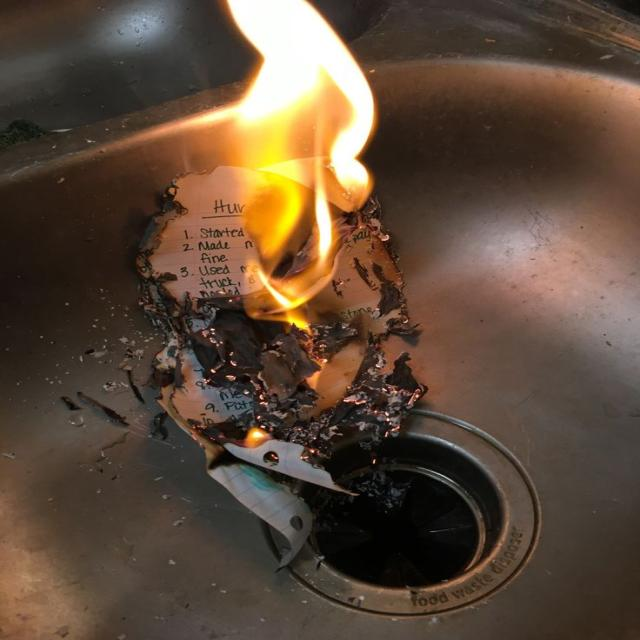fire: (225, 0, 375, 331)
